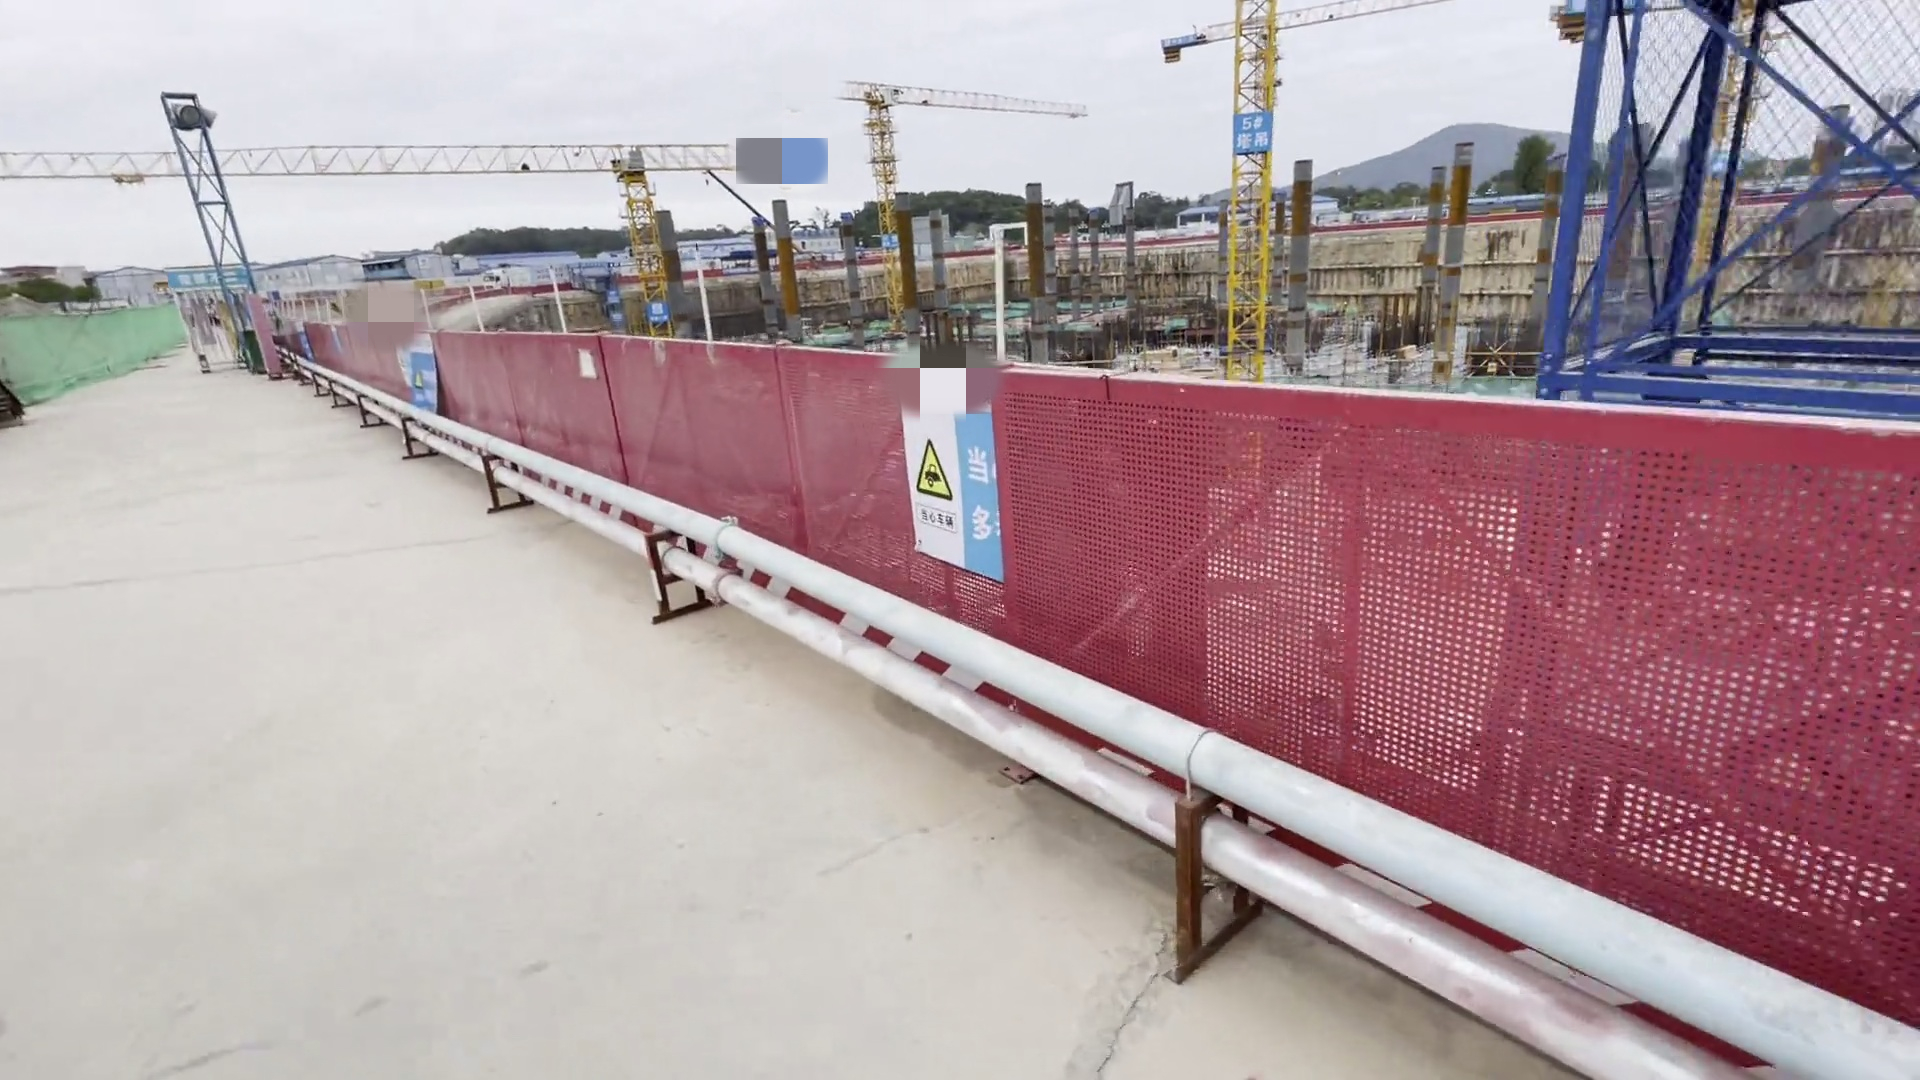fence: (243, 327, 1853, 985)
slogan: (887, 368, 1019, 591), (386, 324, 454, 418), (158, 256, 266, 289), (1236, 102, 1287, 157)
